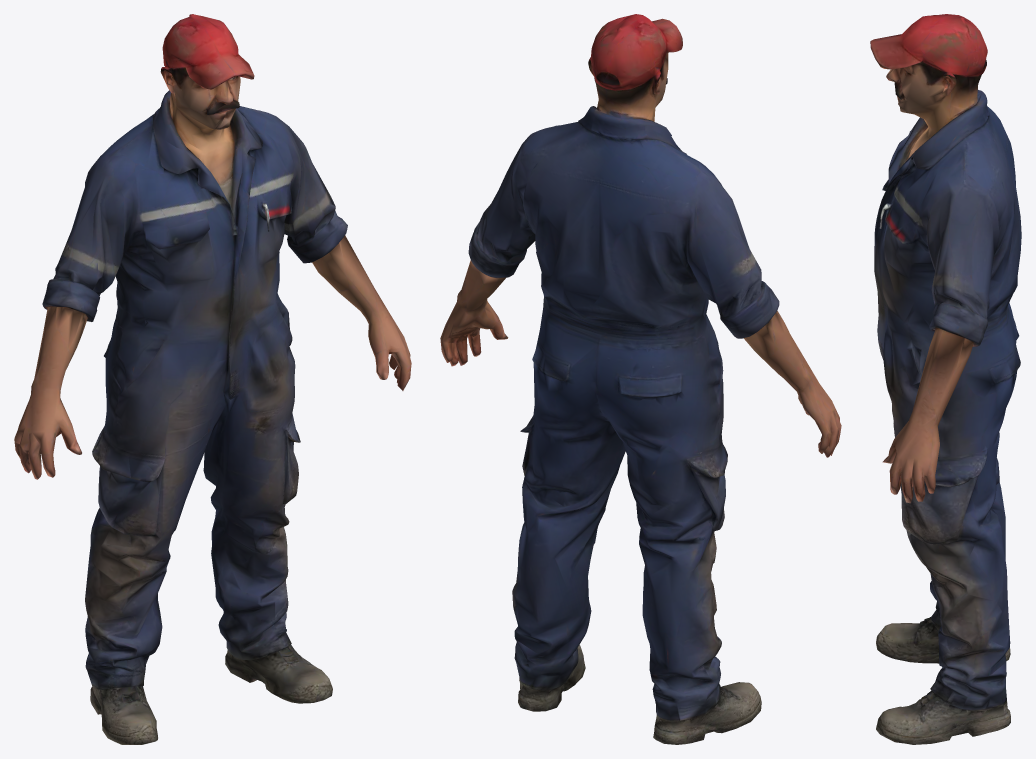
The picture shows the model from 3 angles, left to right: view 1: azimuth 30°, elevation 25°; view 2: azimuth 150°, elevation 25°; view 3: azimuth 270°, elevation 25°; orthographic projection.
Parts seen in each view (by area): view 1: node_0; view 2: node_0; view 3: node_0.
Part boxes in pixels (x1,y1,x2,y2): node_0: [14, 14, 411, 744]; node_0: [440, 14, 841, 744]; node_0: [870, 14, 1021, 744].
Bounding box in the file's own units: 0.6789 × 1.14 × 0.231.
Materials: 1 (1 with a texture image).
